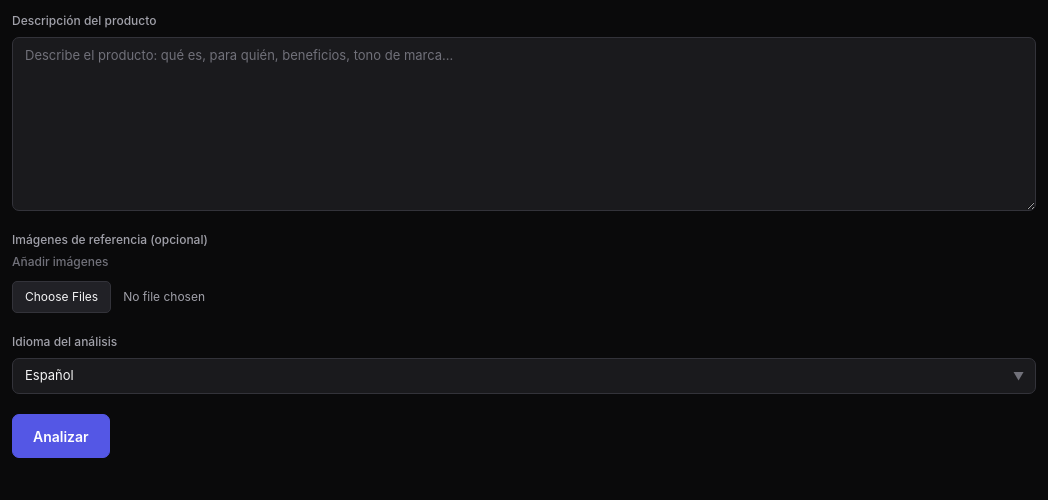
Test case: IntakeForm (intake manual) › un texto demasiado corto muestra el error de validación y no envía
The image size is (1048, 500).
Step 1. Type "corto" into the text box labelled "Descripción del producto" → (524,124), box [12, 37, 1036, 211]
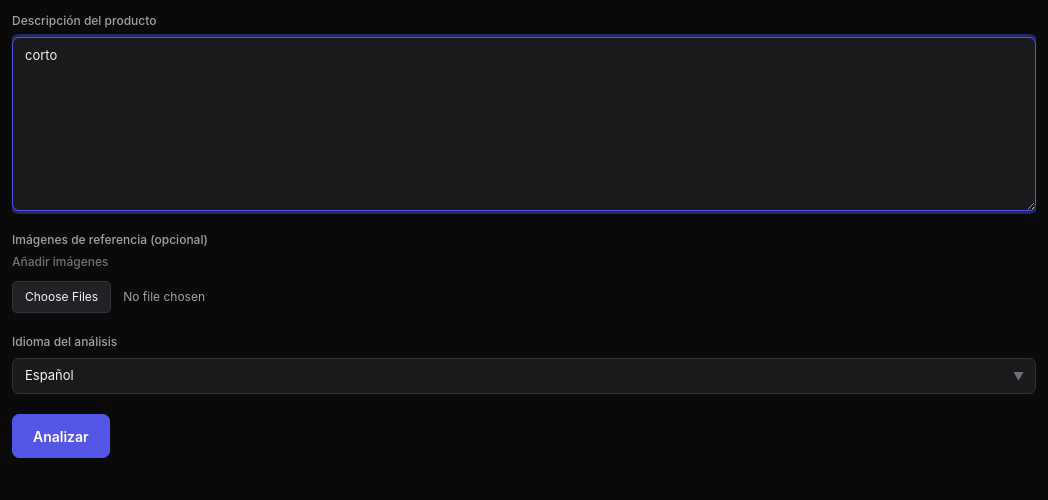
Step 2. Click the button "Analizar" → (61,436), box [12, 414, 110, 458]
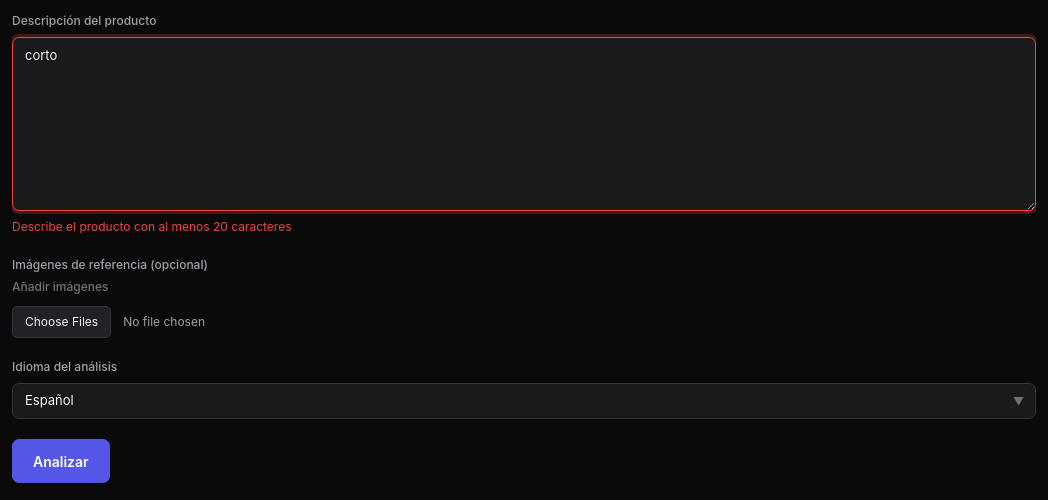
Result: the message shows "al menos" at [12, 219, 292, 234]
